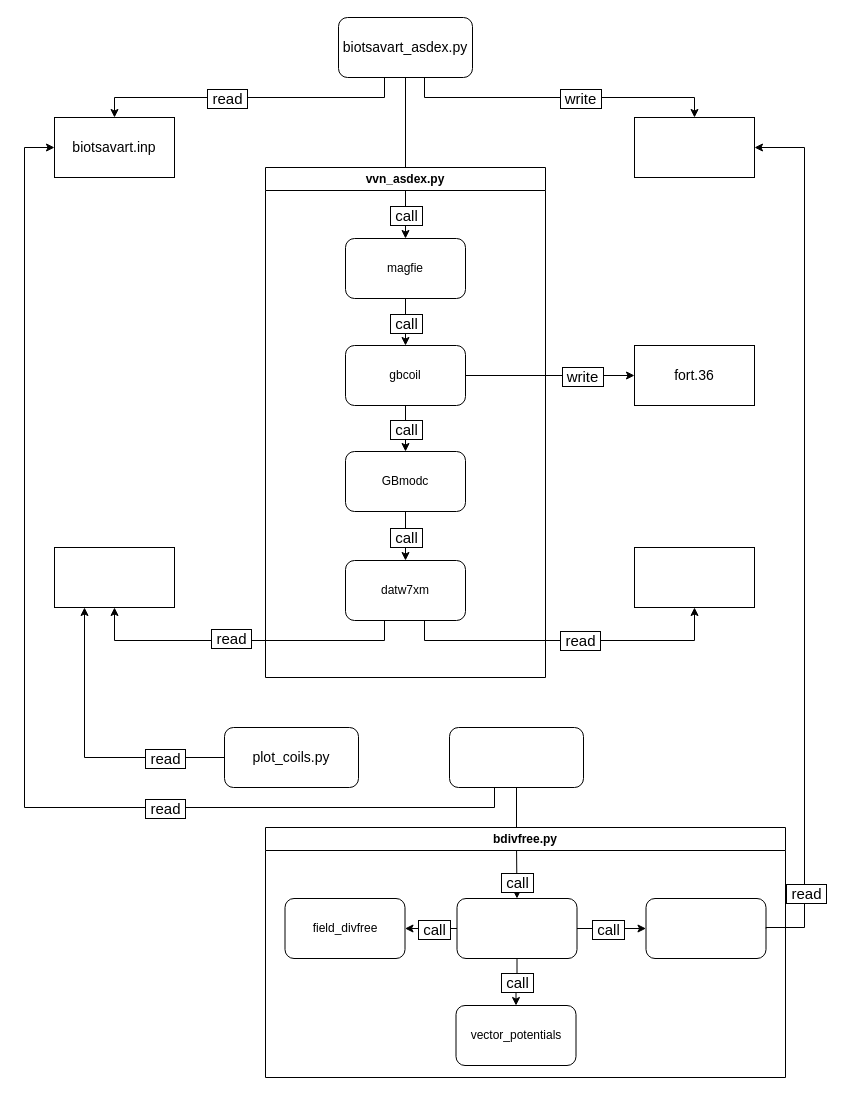
Image size: 843x1095. Some labels were removed from this diagram. Here are the shapes that lost their labels. From the top down, the centre of each, then its label:
At (x=694, y=147): "field.dat".
At (x=114, y=577): "co_asd.dd".
At (x=694, y=577): "cur_asd.dd".
At (x=516, y=757): "plot_modes.py".
At (x=516, y=928): "field_c".
At (x=705, y=928): "read_field4".
